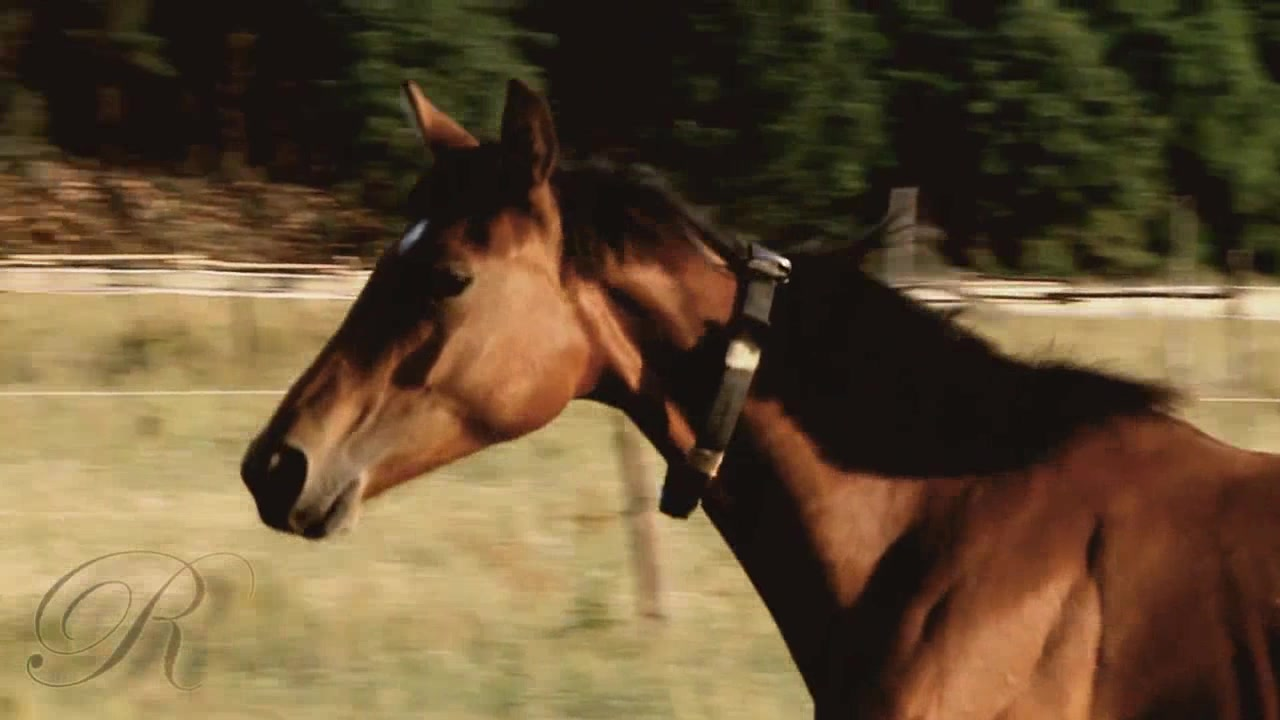horse: (240, 79, 1280, 720)
